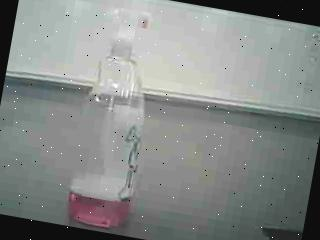hazard: (52, 0, 180, 238)
